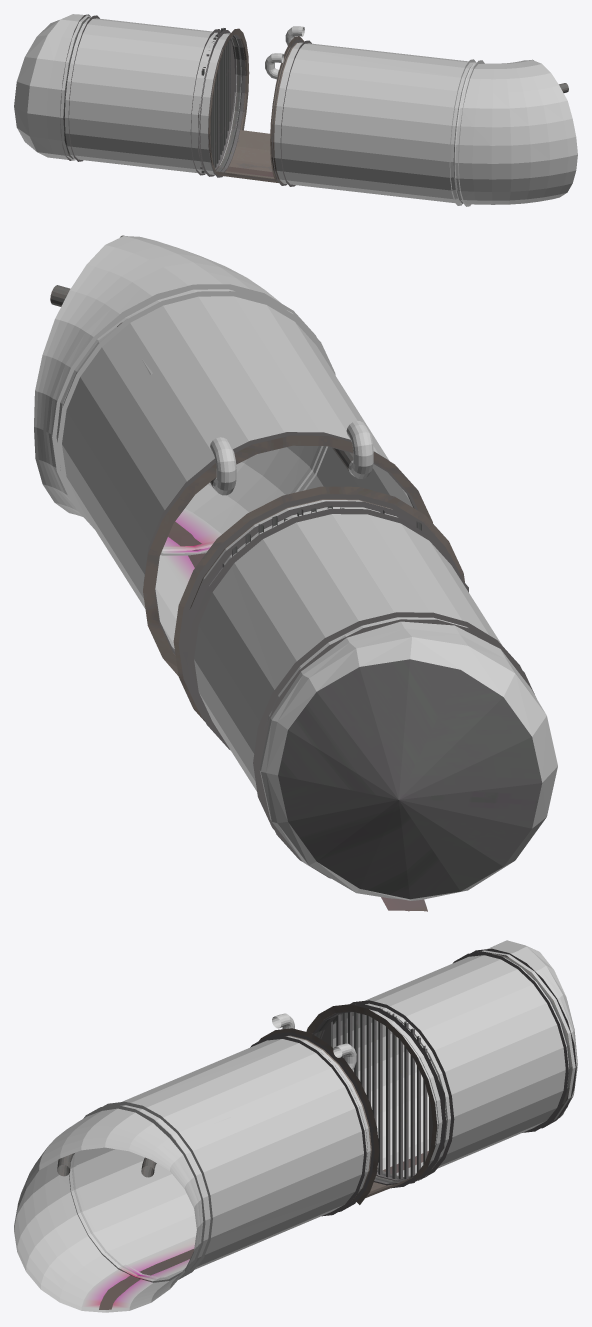
Rendered from AreaJ_Pipe_Inside_Ab.fbx.
3 renders of one model, top to bottom at view 1: azimuth 30°, elevation 25°; view 2: azimuth 150°, elevation 25°; view 3: azimuth 270°, elevation 25°, orthographic. The views are drawn at different scales.
Parts seen in each view (by area): view 1: SM_ENV_AMVLLG02_AreaJ_Pipe_Inside_Ab.mo; view 2: SM_ENV_AMVLLG02_AreaJ_Pipe_Inside_Ab.mo; view 3: SM_ENV_AMVLLG02_AreaJ_Pipe_Inside_Ab.mo.
Part boxes in pixels (x1,y1,x2,y2): SM_ENV_AMVLLG02_AreaJ_Pipe_Inside_Ab.mo: [14, 14, 577, 206]; SM_ENV_AMVLLG02_AreaJ_Pipe_Inside_Ab.mo: [34, 235, 557, 911]; SM_ENV_AMVLLG02_AreaJ_Pipe_Inside_Ab.mo: [14, 940, 577, 1312].
Size of the model in its own units: 4819 by 1685 by 4805.
